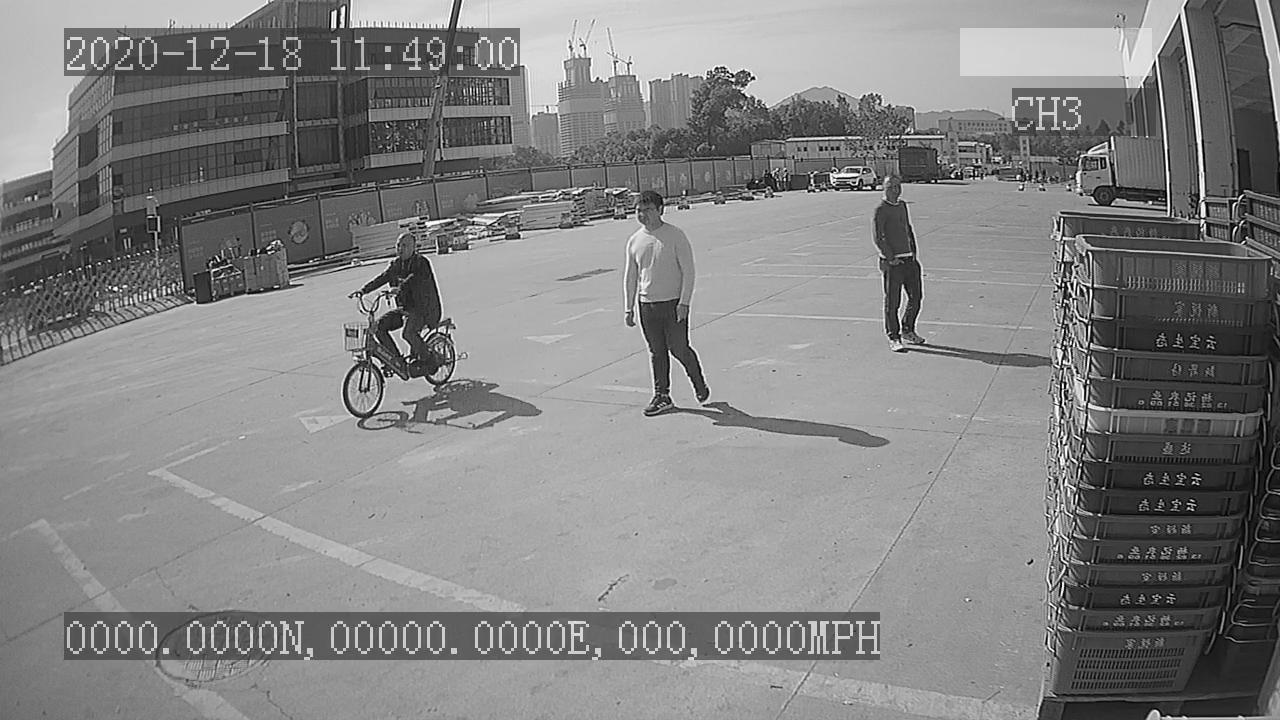person: (620, 186, 718, 426), (867, 172, 933, 358)
